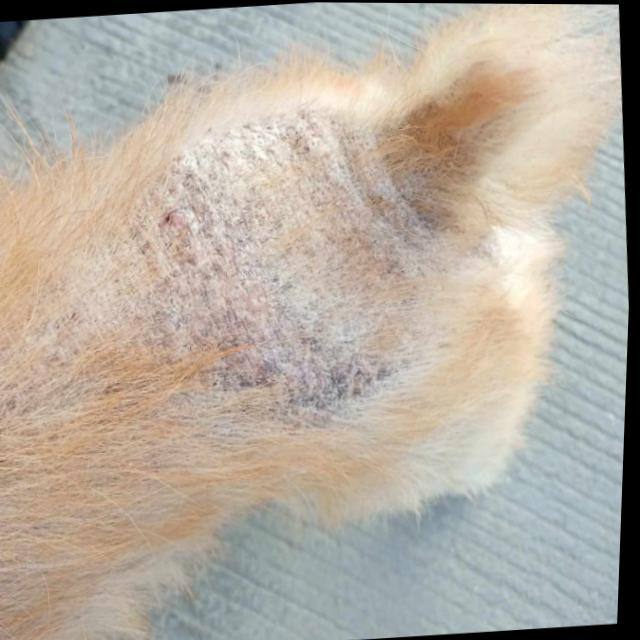demodicosis: (137, 123, 417, 418)
